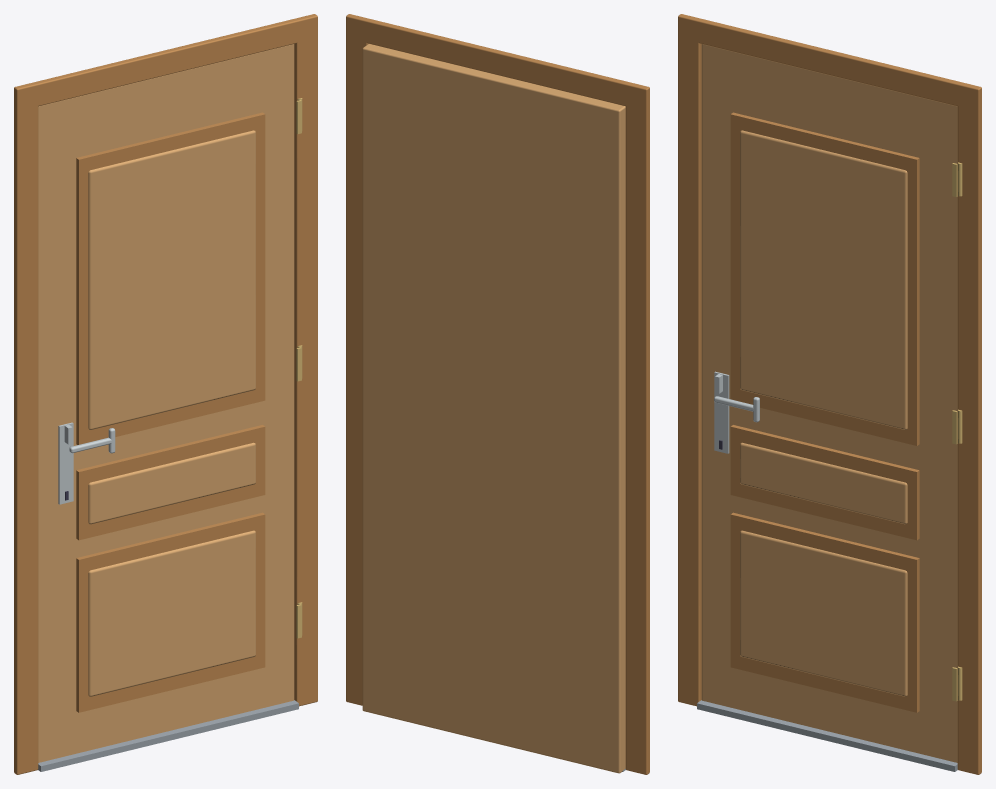
The model's file is porte.glb.
The picture shows the model from 3 angles, left to right: view 1: azimuth 30°, elevation 25°; view 2: azimuth 150°, elevation 25°; view 3: azimuth 330°, elevation 25°; orthographic projection.
Visible parts, largest first — view 1: porte; view 2: porte; view 3: porte.
Part boxes in pixels (x1=…): porte: x1=14, y1=14, x2=317, y2=774; porte: x1=346, y1=14, x2=649, y2=774; porte: x1=678, y1=14, x2=981, y2=774.
Bounding box in the file's own units: 0.97 × 2.11 × 0.102.
